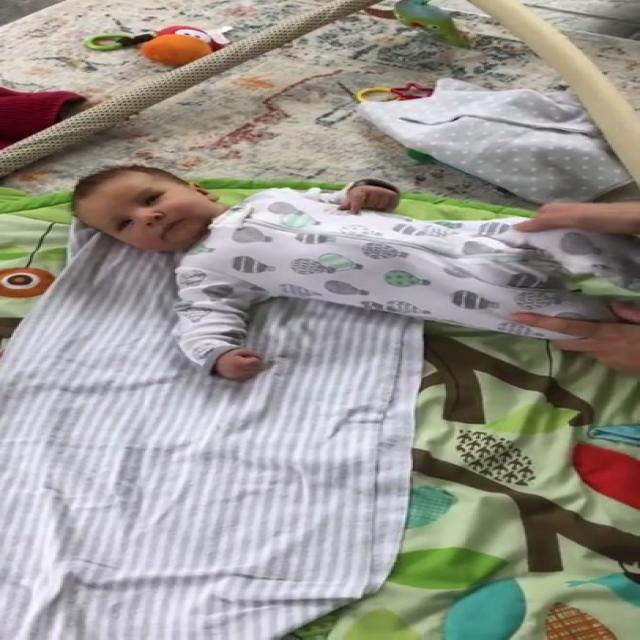baby: (66, 161, 640, 390)
